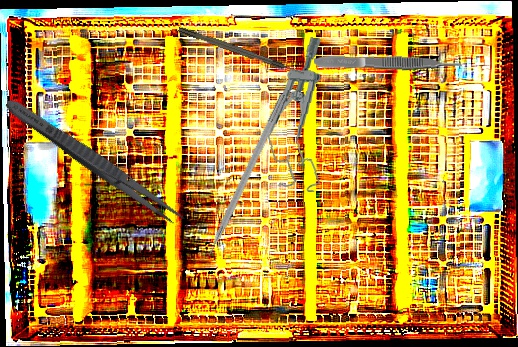Chopper: (190, 89, 288, 269)
Dressing Forceps: (0, 93, 190, 231)
Hook Surgical: (177, 25, 306, 78)
Speculum: (263, 34, 333, 193)
Tissue Forceps: (313, 53, 463, 74)
